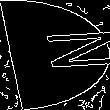N_W: (6, 32, 104, 78)
